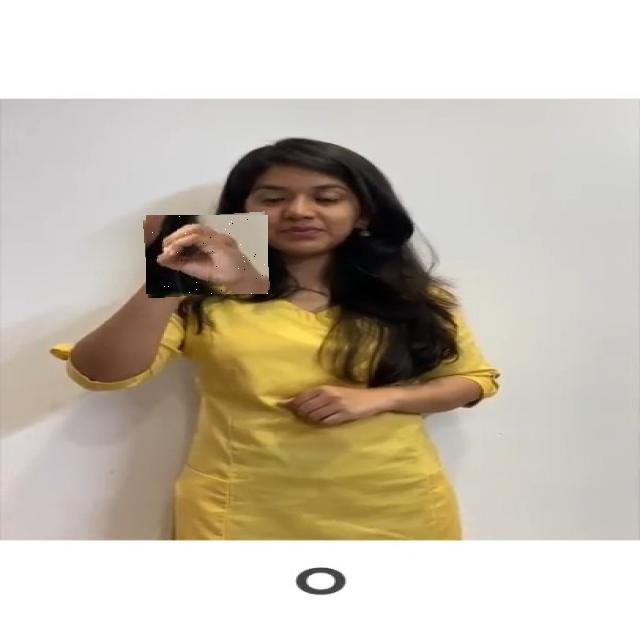O: (145, 213, 269, 296)
